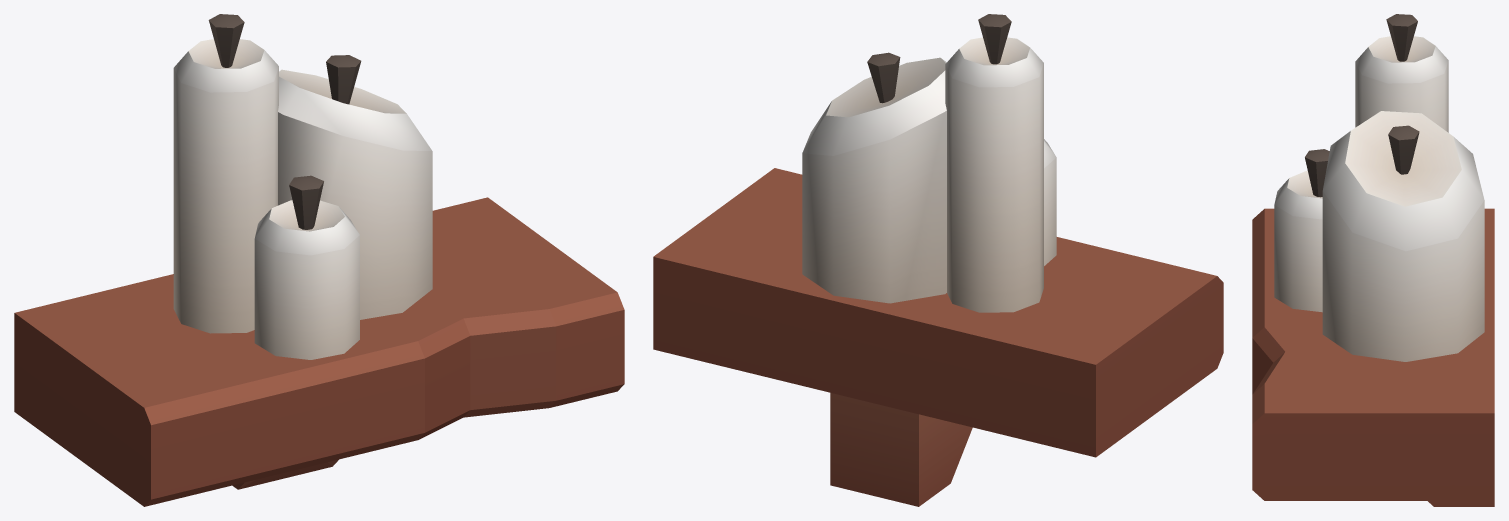
File: shelf_small_candles.glb
3 views of the same model, side by side, from view 1: azimuth 30°, elevation 25°; view 2: azimuth 150°, elevation 25°; view 3: azimuth 270°, elevation 25° (orthographic). The views are drawn at different scales.
Parts seen in each view (by area): view 1: shelf_small_candles; view 2: shelf_small_candles; view 3: shelf_small_candles.
Part boxes in pixels (x1=…): shelf_small_candles: x1=14, y1=14, x2=624, y2=506; shelf_small_candles: x1=653, y1=14, x2=1223, y2=506; shelf_small_candles: x1=1252, y1=14, x2=1494, y2=506.
Size of the model in its own units: 1 by 0.9941 by 0.5001.
1 material, 1 textured.
